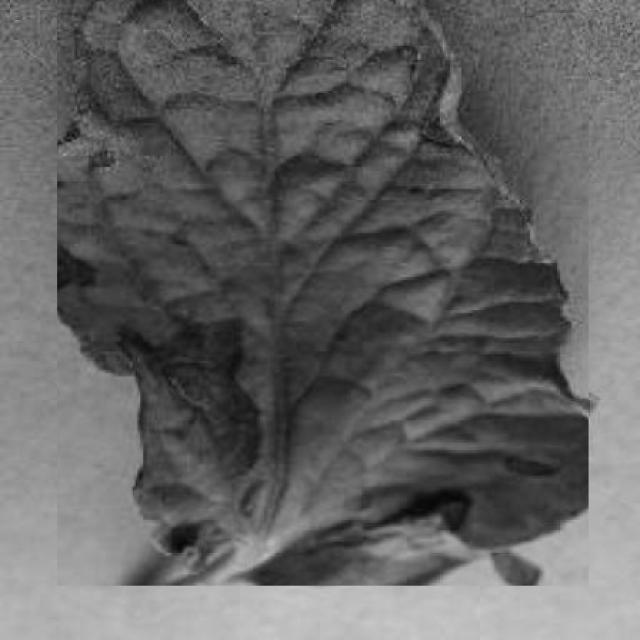Early Blight: (58, 0, 588, 586)
